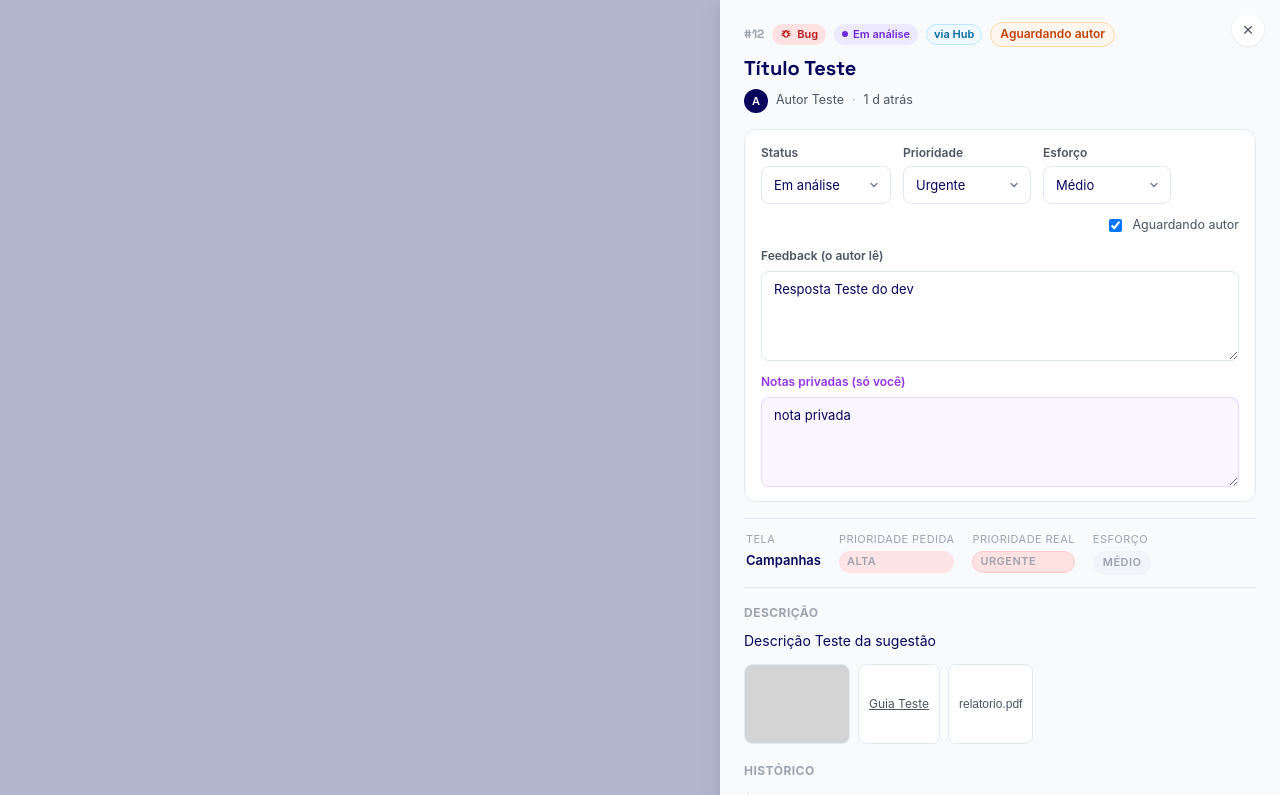
Test: SuggestionDetail — gestão (dev) › Descartar volta o campo ao texto salvo
The image size is (1280, 795).
Expected: the heading "Título Teste" is shown, [744,55,856,81]
Step 1. Replace the text in the text box with placeholder "Rascunho técnico, links, TODO…" below "Notas privadas (só você)" with "outra coisa" → x=1000, y=442, box [761,397,1239,487]
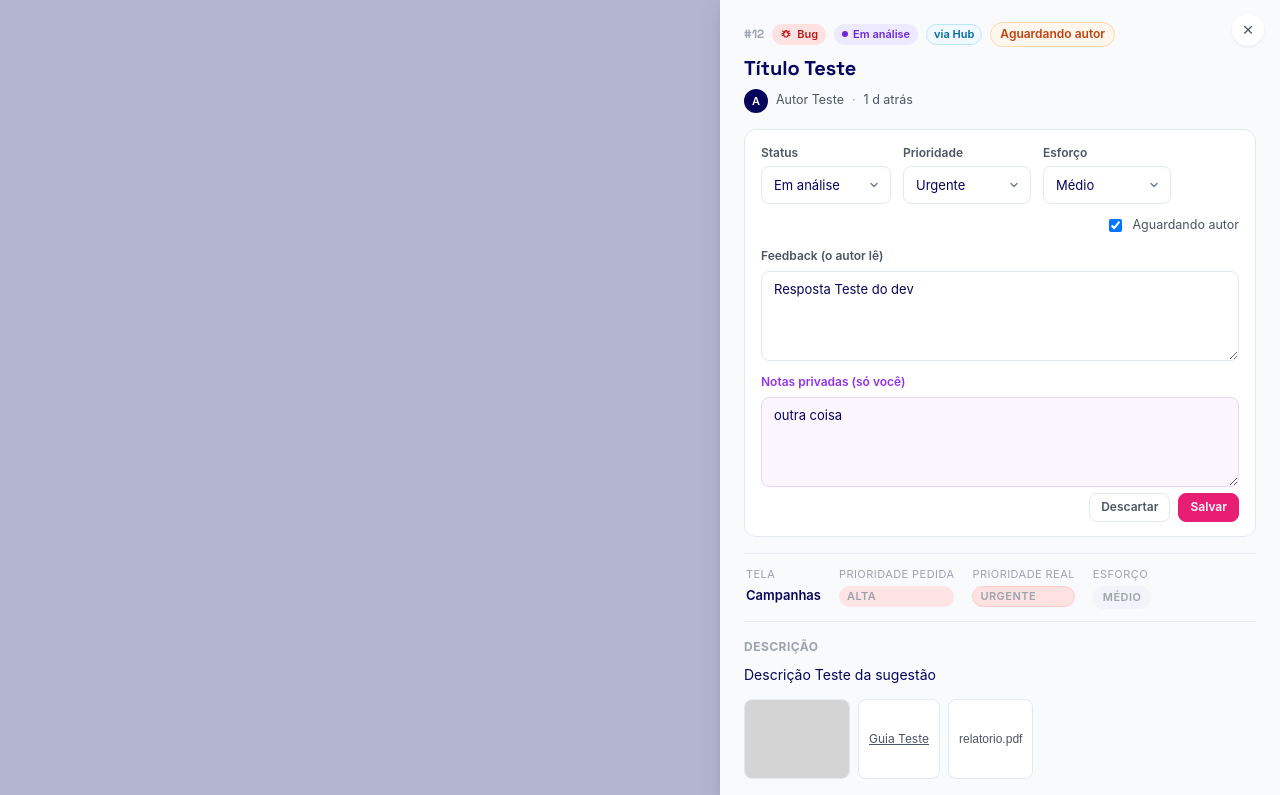
Step 2. Click the button "Descartar" → x=1130, y=507, box [1089,493,1170,522]
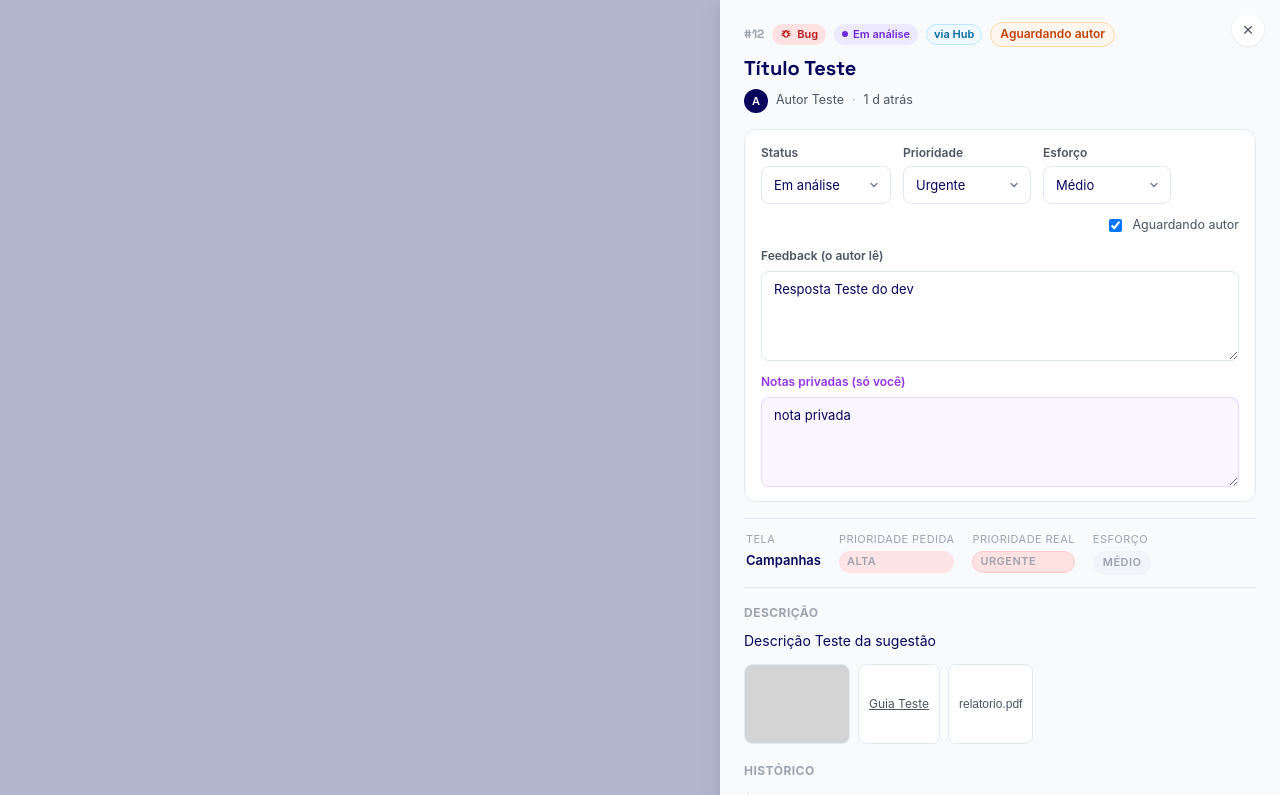
Expected: the text box with placeholder "Rascunho técnico, links, TODO…" below "Notas privadas (só você)" holds "nota privada", [761,397,1239,487]
Expected: the button "Salvar" is gone
